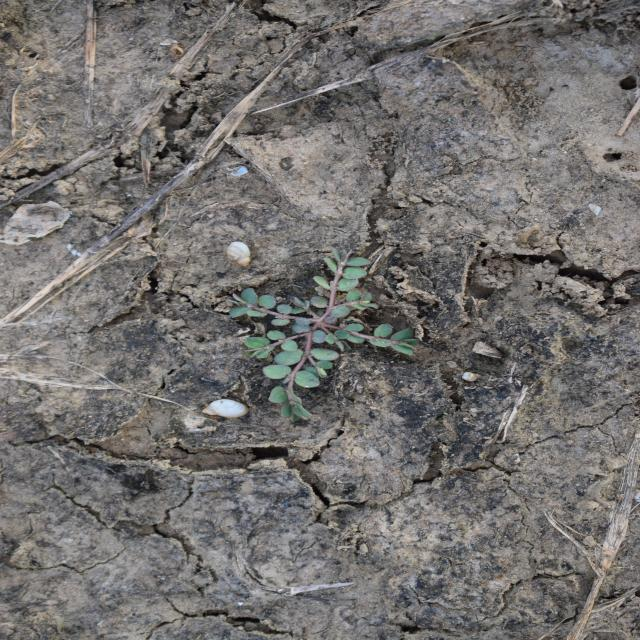SpottedSpurge: (223, 245, 423, 424)
